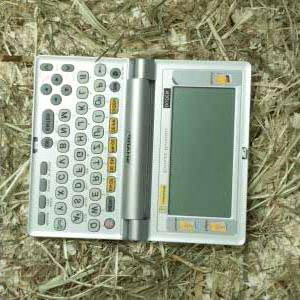handheld: (27, 54, 248, 247)
